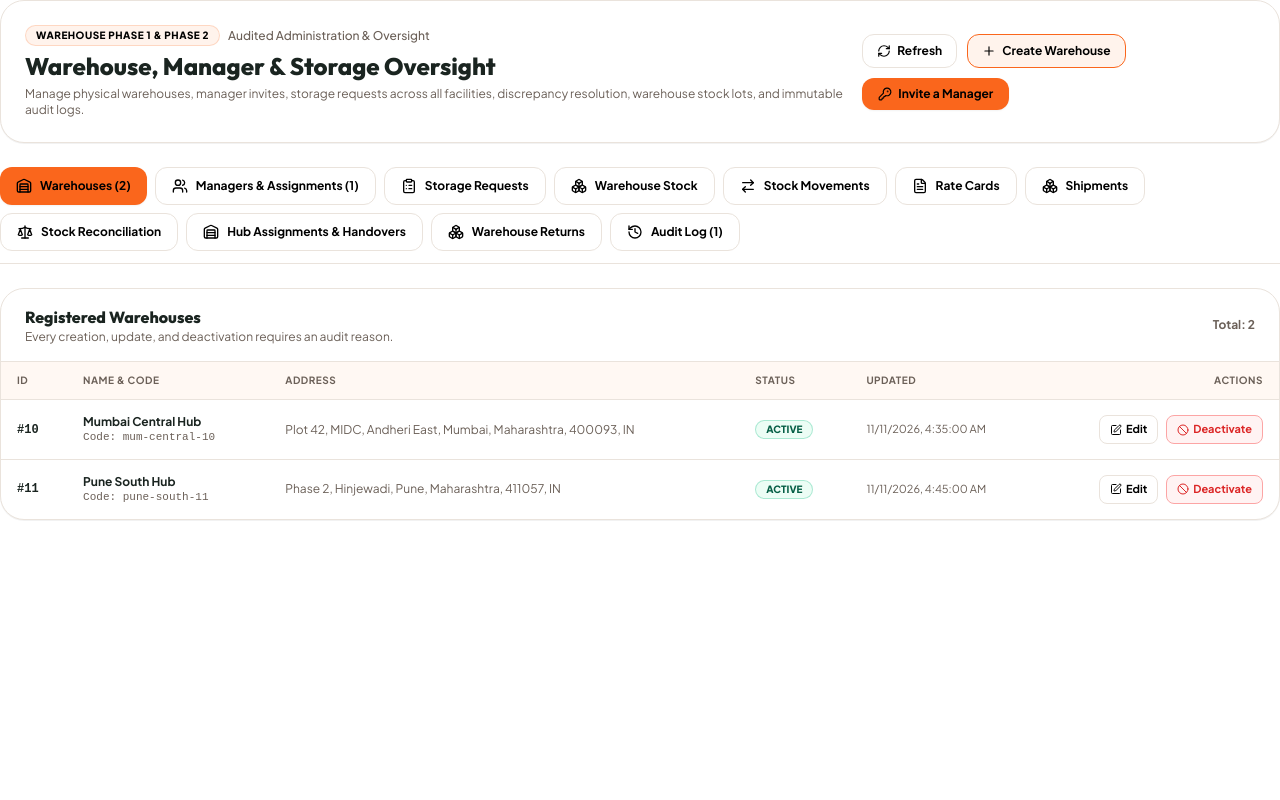
WarehouseModule — Admin Warehouse & Manager Screens › 4. renders Phase 2 Storage Requests oversight, Discrepancy Queue filter, Admin Resolve action, Stock, and Movements tabs
The width and height of the screenshot is (1280, 800).
Check: the text "Mumbai Central Hub" is shown, box [83,414,201,429]
Open Storage Requests tab
Click the button with test id "warehouse-tab-requests" at (465, 186), box [384,167,546,205]
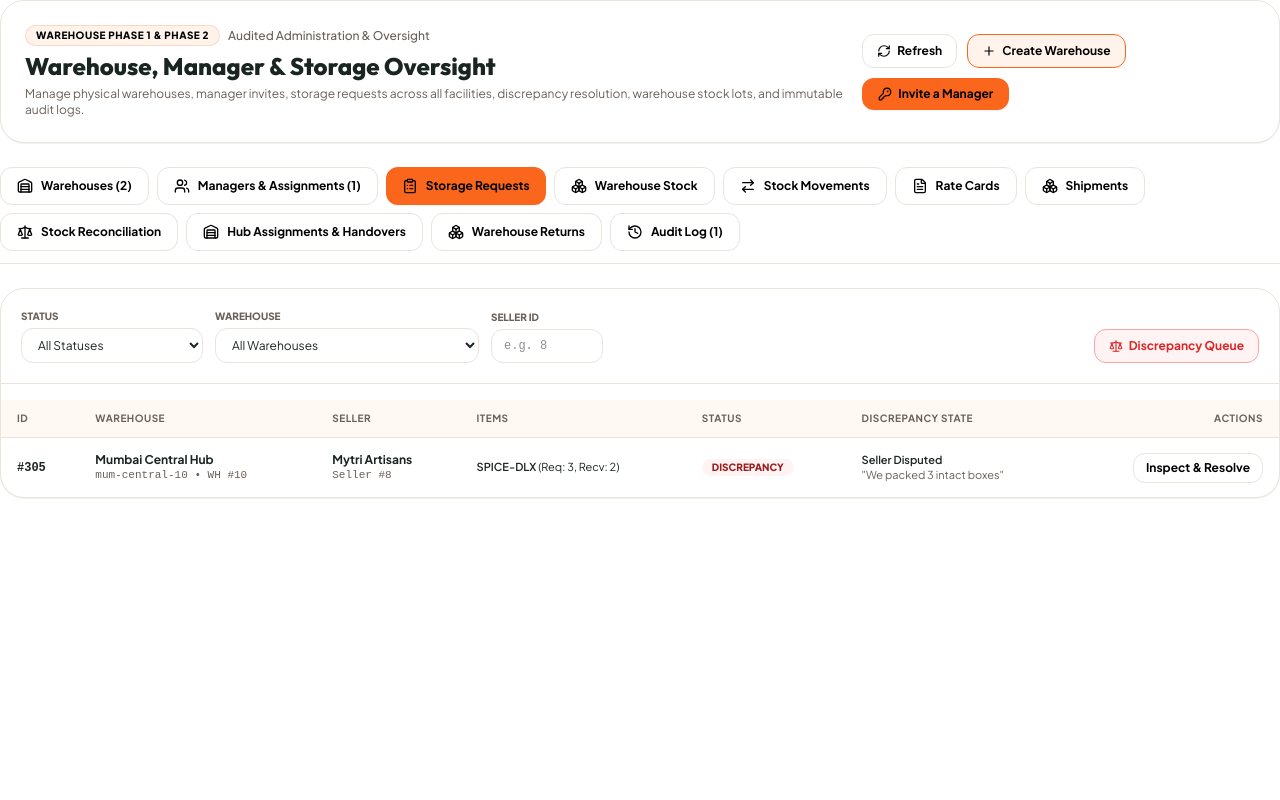
Check: the row with test id "admin-request-row-305" shows "Mytri Artisans", box [332,452,412,467]
Inspect & Resolve Discrepancy
Click the button with test id "admin-inspect-request-btn-305" at (1198, 468), box [1133,453,1263,483]
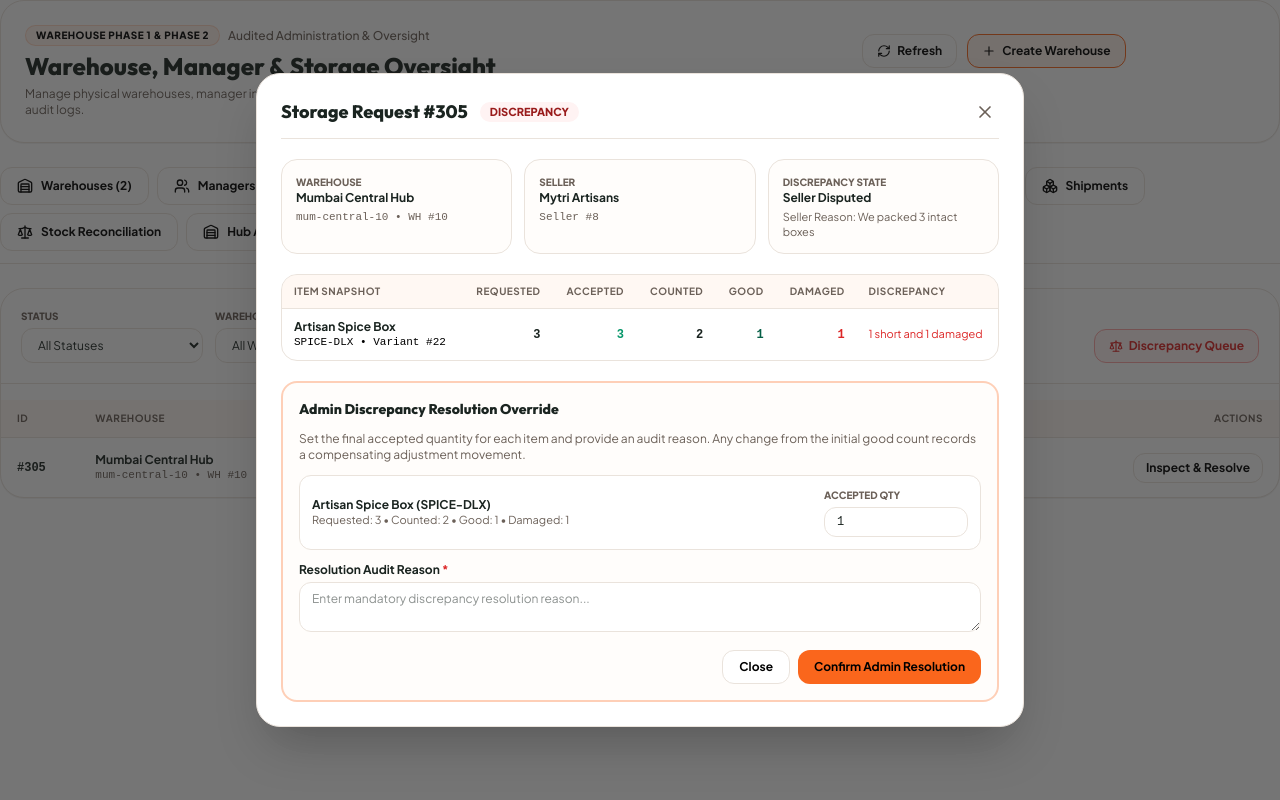
Check: the form with test id "admin-resolve-discrepancy-form" is shown, box [281,381,999,702]
Replace the text in the number field with test id "admin-resolve-qty-701" with "2" at (896, 522), box [824,507,968,537]
Type "Admin verified second unit intact" into the text box with test id "admin-resolve-reason-input" at (640, 607), box [299,582,981,632]
Click the button with test id "admin-resolve-submit-btn" at (890, 667), box [798,650,981,684]
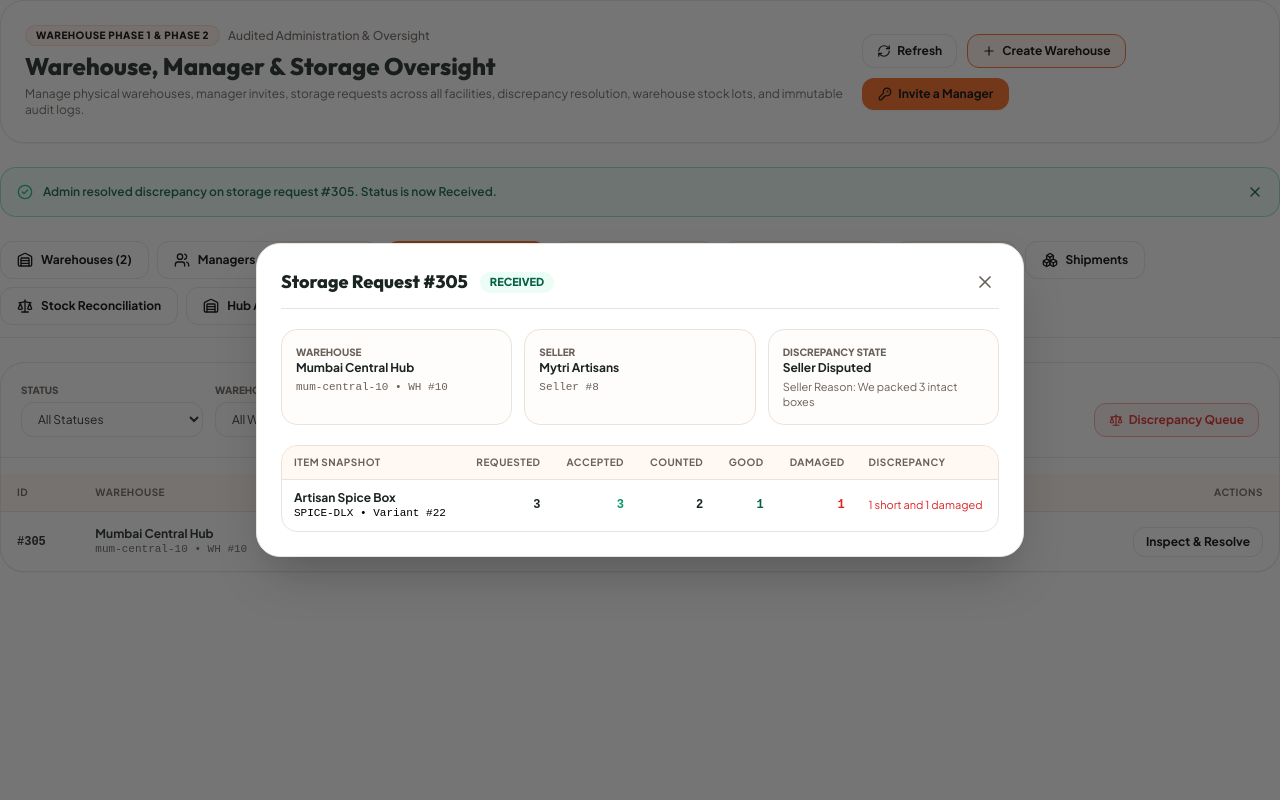
Check: the message with test id "warehouse-feedback-banner" shows "Admin resolved discrepancy on storage request #305.", box [43,184,497,199]
Close modal and check Stock and Movements tabs
Click the button with test id "close-admin-request-modal-btn" at (985, 282), box [971,268,999,296]
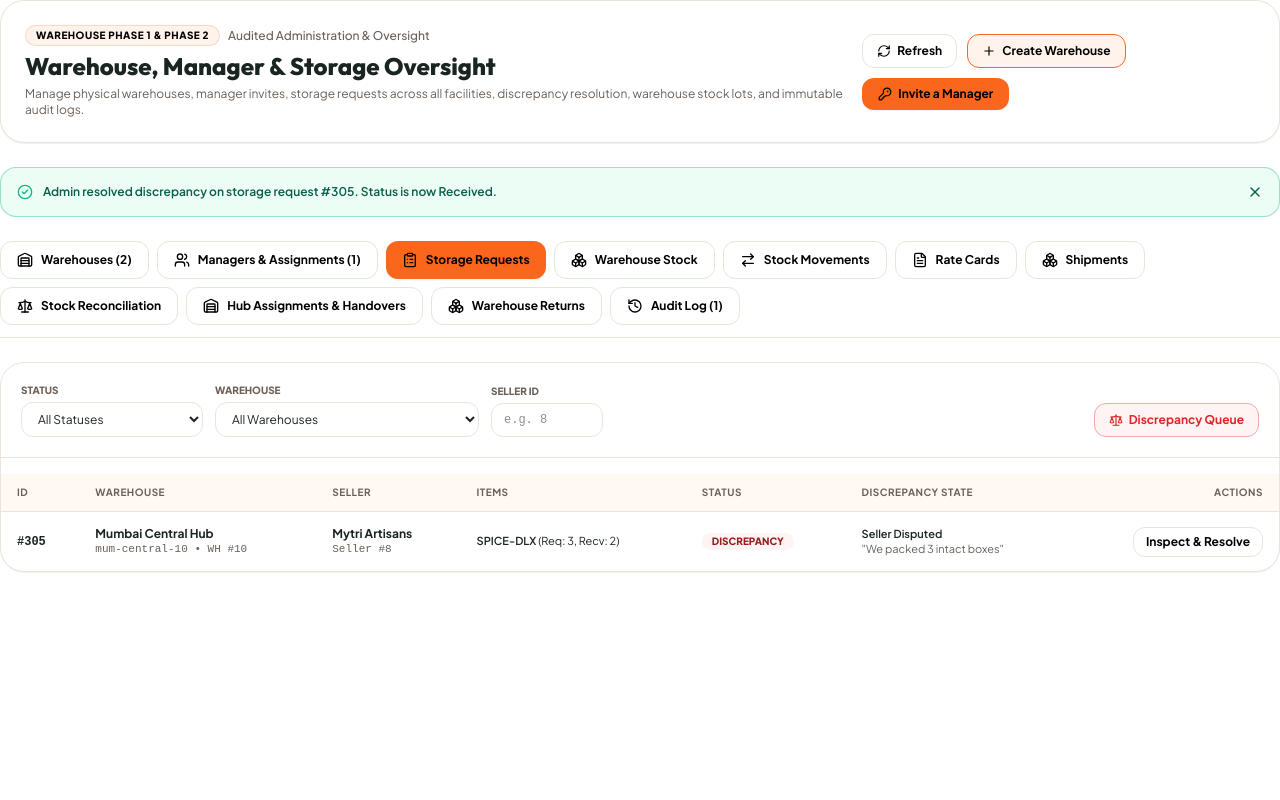
Click the button with test id "warehouse-tab-stock" at (634, 260), box [554,241,715,279]
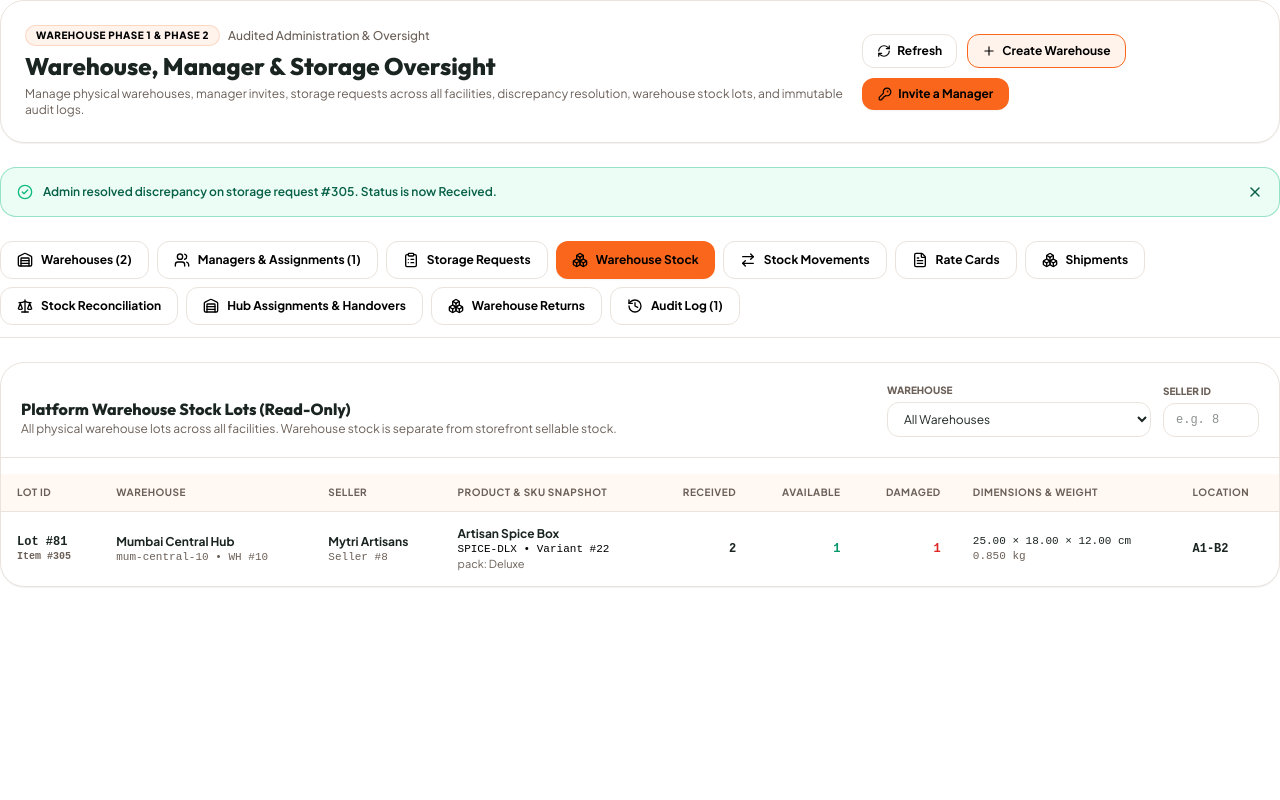
Check: the row with test id "admin-stock-row-81" shows "SPICE-DLX", box [458,543,517,555]
Click the button with test id "warehouse-tab-movements" at (805, 260), box [723,241,887,279]
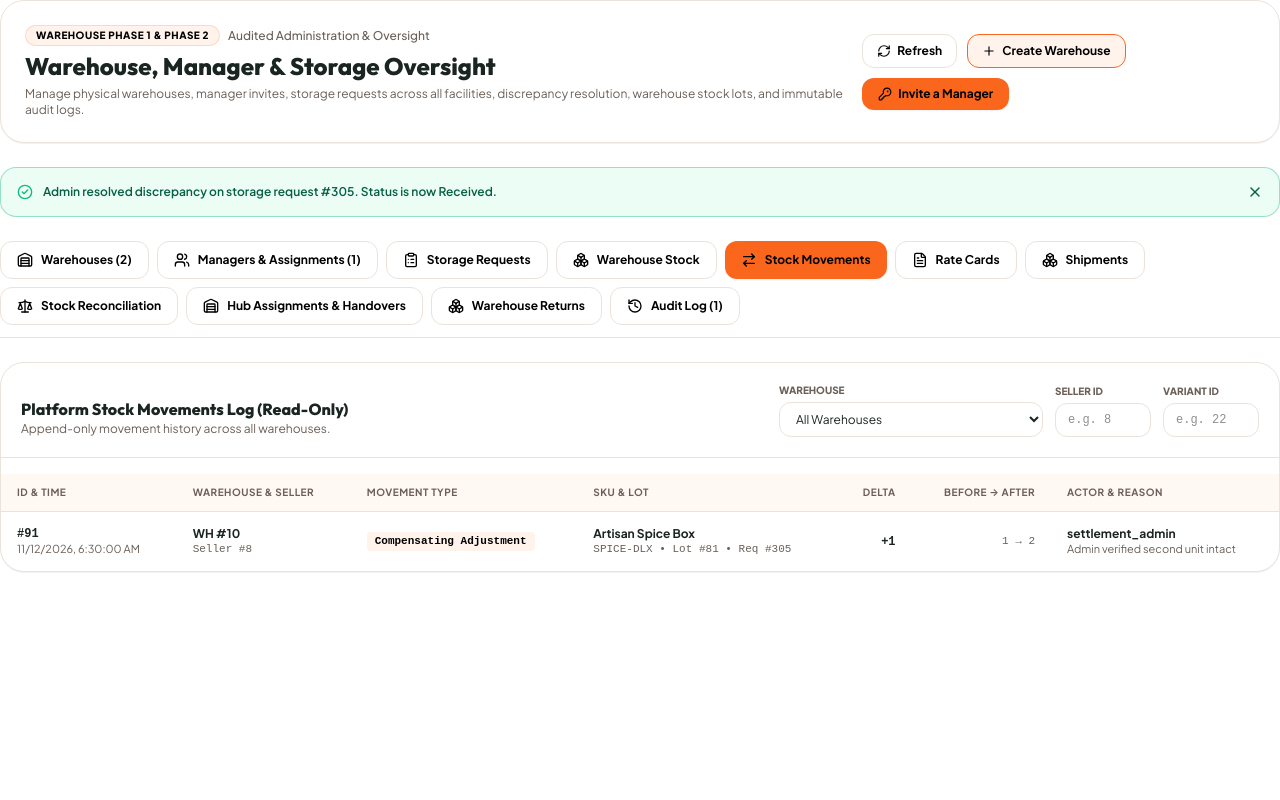
Check: the row with test id "admin-movement-row-91" shows "+1", box [881,535,896,549]
